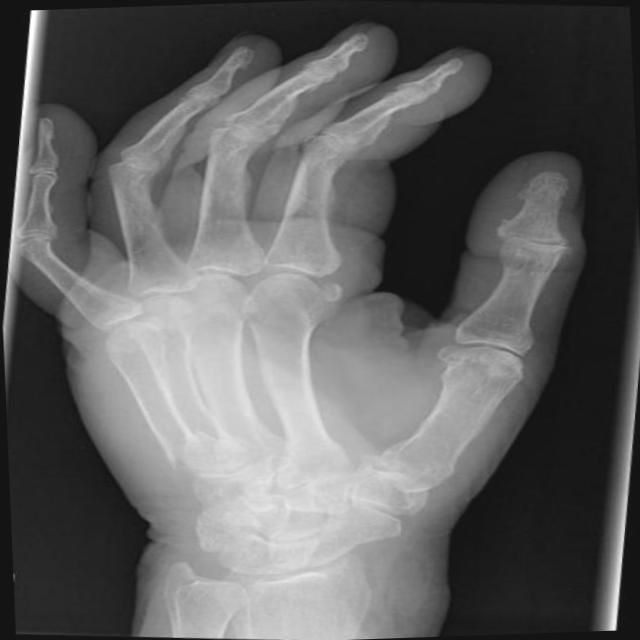Oblique Displaced: (152, 420, 220, 483)
